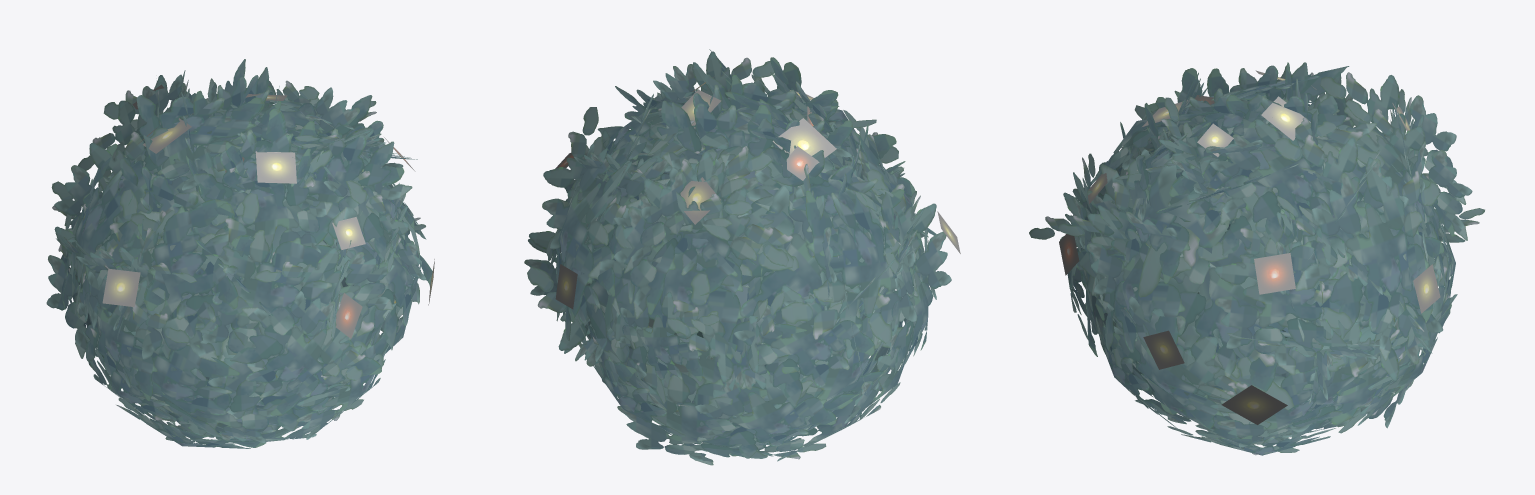
File: pref_sm_beach_winter_techqiutree02_lv3.fbx
3 renders of one model, left to right at view 1: azimuth 30°, elevation 25°; view 2: azimuth 150°, elevation 25°; view 3: azimuth 270°, elevation 25°, orthographic. The views are drawn at different scales.
Visible parts, largest first — view 1: pref_sm_beach_winter_techqiutree02_lv3, sm_beach_winter_techqiutree02b_lv3; view 2: pref_sm_beach_winter_techqiutree02_lv3, sm_beach_winter_techqiutree02b_lv3; view 3: pref_sm_beach_winter_techqiutree02_lv3, sm_beach_winter_techqiutree02b_lv3.
Part boxes in pixels (left/top/right/bottom): pref_sm_beach_winter_techqiutree02_lv3: left=46, top=59, right=432, bottom=448; sm_beach_winter_techqiutree02b_lv3: left=102, top=84, right=434, bottom=338; pref_sm_beach_winter_techqiutree02_lv3: left=524, top=49, right=951, bottom=465; sm_beach_winter_techqiutree02b_lv3: left=555, top=76, right=960, bottom=309; pref_sm_beach_winter_techqiutree02_lv3: left=1029, top=62, right=1484, bottom=455; sm_beach_winter_techqiutree02b_lv3: left=1059, top=70, right=1440, bottom=424.
Bounding box in the file's own units: 4.02 × 3.84 × 4.27.
